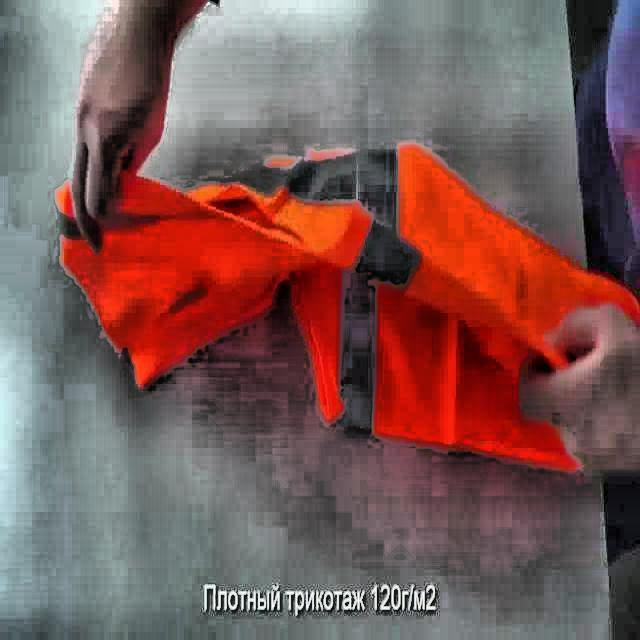safety_jacket: (53, 135, 640, 477)
